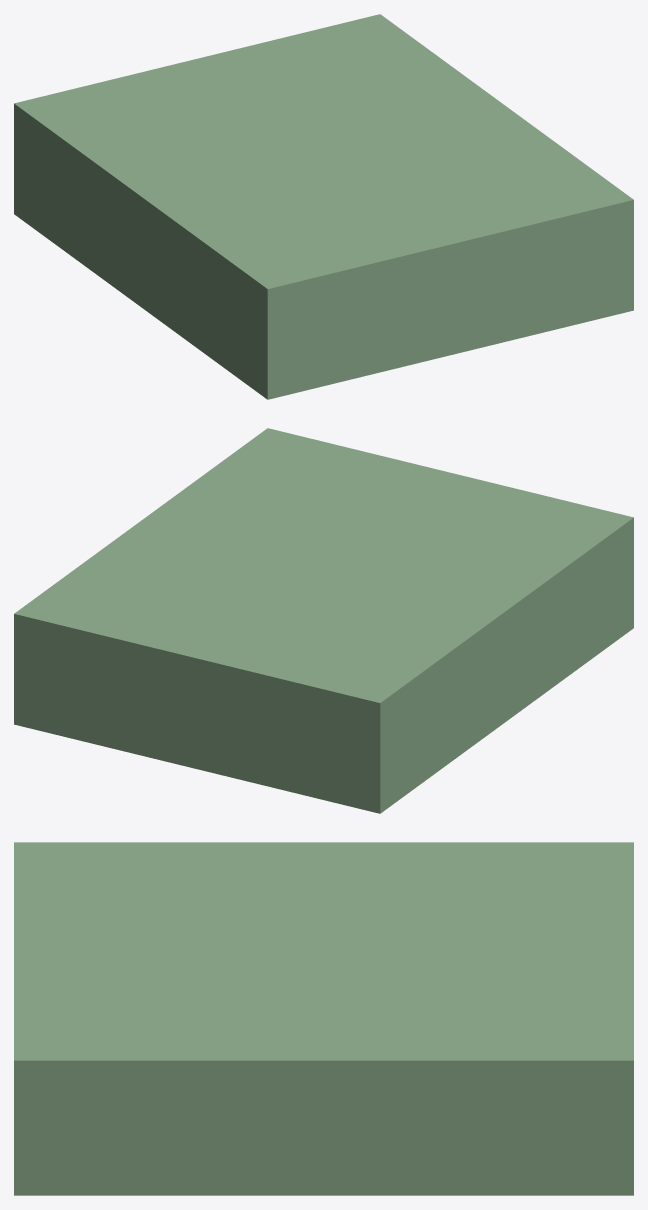
File: HYDROLIC_STOR_TK.glb
3 views of the same model, one above another, from view 1: azimuth 30°, elevation 25°; view 2: azimuth 150°, elevation 25°; view 3: azimuth 270°, elevation 25° (orthographic). The views are drawn at different scales.
Parts seen in each view (by area): view 1: PL_TransxFR40P_020001-12.5_NVA36_2014, PL_2ndDeckxEPRP_013001-9_NVA_1993, PL_2ndDeckxEPRP_013002-9_NVA_1993, PL_L7SectionxEPRP_008001-10_NVA_1993, PL_L7SectionxEPRP_008002-10_NVA_1993, PL_2ndDeckxEPRP_003001-9_NVA_1993, PL_2ndDeckxEPRP_002005-9_NVA_1993, PL_2ndDeckxEPRP_003002-9_NVA_1993, PL_2ndDeckxEPRP_002002-9_NVA_1993, PL_2ndDeckxEPRP_015001-13_NVA_1993, PL_L7SectionxEPRP_005004-8_NVA_1993, PL_2ndDeckxEPRP_002001-9_NVA_1993 (+2 smaller); view 2: PL_TransxFR40P_020001-12.5_NVA36_2014, PL_2ndDeckxEPRP_013001-9_NVA_1993, PL_2ndDeckxEPRP_013002-9_NVA_1993, PL_LBHDxEPRP_013001-15_NVA_1993, PL_LBHDxEPRP_013002-15_NVA_1993, PL_2ndDeckxEPRP_003001-9_NVA_1993, PL_2ndDeckxEPRP_002005-9_NVA_1993, PL_2ndDeckxEPRP_003002-9_NVA_1993, PL_2ndDeckxEPRP_002002-9_NVA_1993, PL_2ndDeckxEPRP_015001-13_NVA_1993, PL_2ndDeckxEPRP_002001-9_NVA_1993, PL_2ndDeckxEPRP_014002-9_NVA_1993; view 3: PL_TransxFR45P_028002-12.5_NVA36_2014, PL_2ndDeckxEPRP_013001-9_NVA_1993, PL_2ndDeckxEPRP_013002-9_NVA_1993, PL_2ndDeckxEPRP_003001-9_NVA_1993, PL_2ndDeckxEPRP_002005-9_NVA_1993, PL_2ndDeckxEPRP_003002-9_NVA_1993, PL_2ndDeckxEPRP_002002-9_NVA_1993, PL_2ndDeckxEPRP_015001-13_NVA_1993, PL_TransxFR45P_028001-12.5_NVA36_2014, PL_2ndDeckxEPRP_002001-9_NVA_1993, PL_2ndDeckxEPRP_014002-9_NVA_1993.
Part boxes in pixels (box(x1,y1,x2,y2)): PL_TransxFR40P_020001-12.5_NVA36_2014: box(14, 103, 267, 399); PL_2ndDeckxEPRP_013001-9_NVA_1993: box(259, 62, 581, 207); PL_2ndDeckxEPRP_013002-9_NVA_1993: box(80, 108, 394, 251); PL_L7SectionxEPRP_008001-10_NVA_1993: box(446, 200, 633, 333); PL_L7SectionxEPRP_008002-10_NVA_1993: box(267, 245, 446, 374); PL_2ndDeckxEPRP_003001-9_NVA_1993: box(193, 14, 445, 107); PL_2ndDeckxEPRP_002005-9_NVA_1993: box(239, 207, 446, 283); PL_2ndDeckxEPRP_003002-9_NVA_1993: box(95, 60, 258, 131); PL_2ndDeckxEPRP_002002-9_NVA_1993: box(395, 162, 614, 231); PL_2ndDeckxEPRP_015001-13_NVA_1993: box(14, 83, 160, 151); PL_L7SectionxEPRP_005004-8_NVA_1993: box(267, 334, 446, 399); PL_2ndDeckxEPRP_002001-9_NVA_1993: box(428, 186, 633, 245); PL_TransxFR40P_020001-12.5_NVA36_2014: box(380, 517, 633, 813); PL_2ndDeckxEPRP_013001-9_NVA_1993: box(80, 466, 402, 611); PL_2ndDeckxEPRP_013002-9_NVA_1993: box(267, 511, 581, 654); PL_LBHDxEPRP_013001-15_NVA_1993: box(14, 614, 201, 769); PL_LBHDxEPRP_013002-15_NVA_1993: box(201, 659, 380, 813); PL_2ndDeckxEPRP_003001-9_NVA_1993: box(14, 566, 266, 659); PL_2ndDeckxEPRP_002005-9_NVA_1993: box(403, 474, 610, 549); PL_2ndDeckxEPRP_003002-9_NVA_1993: box(201, 611, 364, 683); PL_2ndDeckxEPRP_002002-9_NVA_1993: box(216, 442, 435, 511); PL_2ndDeckxEPRP_015001-13_NVA_1993: box(299, 635, 445, 702); PL_2ndDeckxEPRP_002001-9_NVA_1993: box(249, 428, 454, 487); PL_2ndDeckxEPRP_014002-9_NVA_1993: box(559, 512, 633, 554); PL_TransxFR45P_028002-12.5_NVA36_2014: box(60, 1060, 633, 1195); PL_2ndDeckxEPRP_013001-9_NVA_1993: box(140, 949, 473, 1060); PL_2ndDeckxEPRP_013002-9_NVA_1993: box(140, 842, 473, 948); PL_2ndDeckxEPRP_003001-9_NVA_1993: box(473, 949, 633, 1060); PL_2ndDeckxEPRP_002005-9_NVA_1993: box(14, 856, 140, 948); PL_2ndDeckxEPRP_003002-9_NVA_1993: box(473, 890, 633, 948); PL_2ndDeckxEPRP_002002-9_NVA_1993: box(60, 949, 140, 1060); PL_2ndDeckxEPRP_015001-13_NVA_1993: box(473, 842, 633, 890); PL_TransxFR45P_028001-12.5_NVA36_2014: box(14, 1060, 59, 1195); PL_2ndDeckxEPRP_002001-9_NVA_1993: box(14, 949, 59, 1060); PL_2ndDeckxEPRP_014002-9_NVA_1993: box(14, 842, 140, 855).
Bounding box in the file's own units: 4.5 × 1.3 × 5.4.
